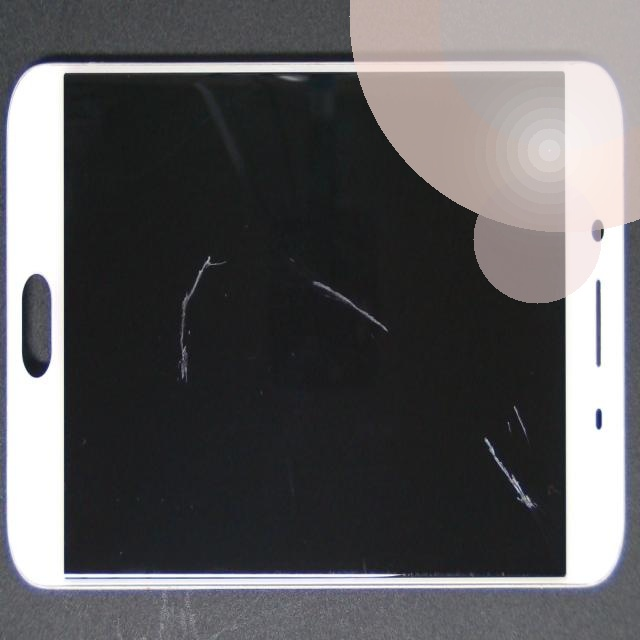scratch: (257, 256, 640, 640), (262, 180, 571, 437), (128, 118, 326, 357)
